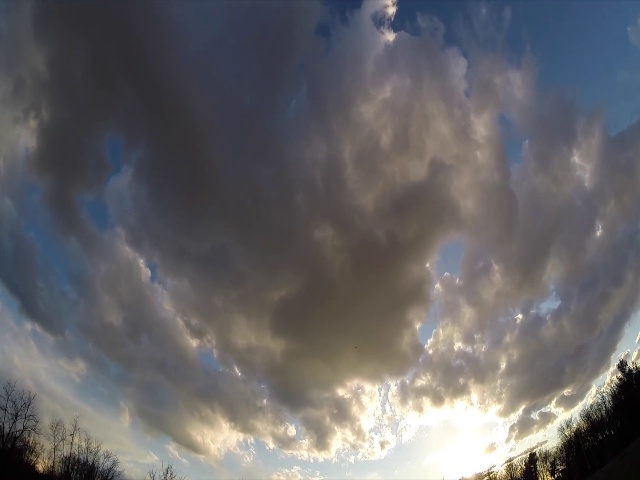drone: (352, 344, 359, 351)
